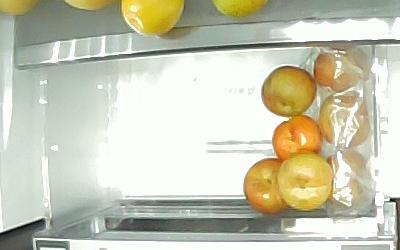prune: (276, 151, 333, 211), (260, 64, 316, 116), (242, 156, 290, 214), (271, 114, 322, 161)
prune_vinyl: (317, 88, 370, 146), (324, 148, 367, 208), (313, 46, 365, 91)
